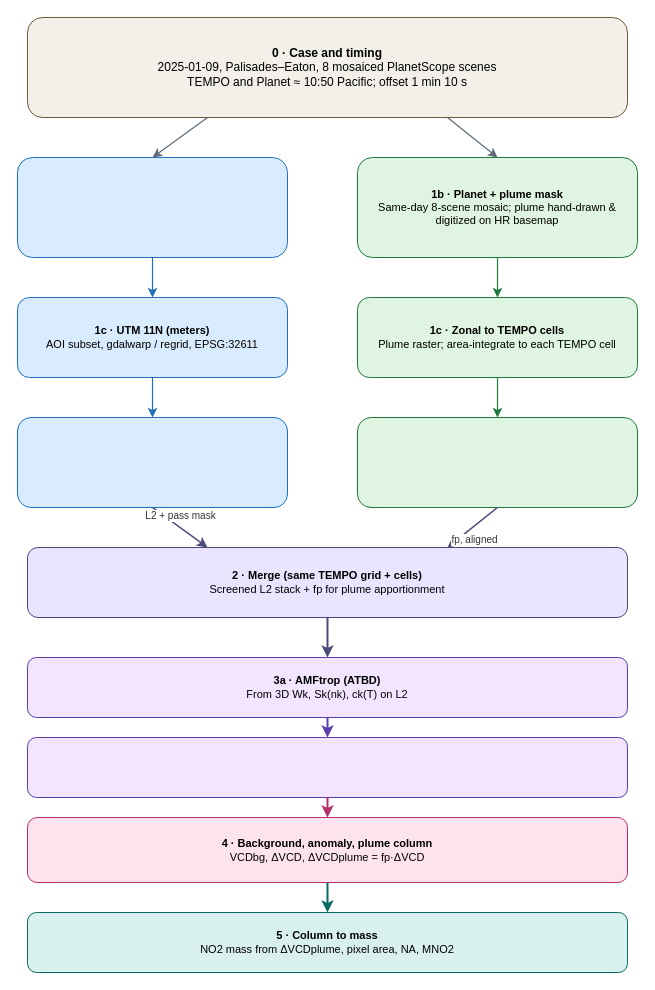
Some shapes in this 655 by 990 pixel diagram are drawn without their labels. Each missing label, with the box of its shape:
1a · TEMPO L2 SCD, VCDtrop, QA, eff_cloud, 3D Wk, gas_profile, T (72): (16, 156, 288, 258)
1d · Plume fraction fp fp in [0,1] plume area per TEMPO cell: (356, 416, 638, 508)
1d · Quality screen (TEMPO) QA; eff_cloud_fraction < 0.3; finite VCDtrop: (16, 416, 288, 508)
3b · VCDcheck = SCD / AMFtrop Rederived column vs L2 VCDtrop (product): (26, 736, 628, 798)
